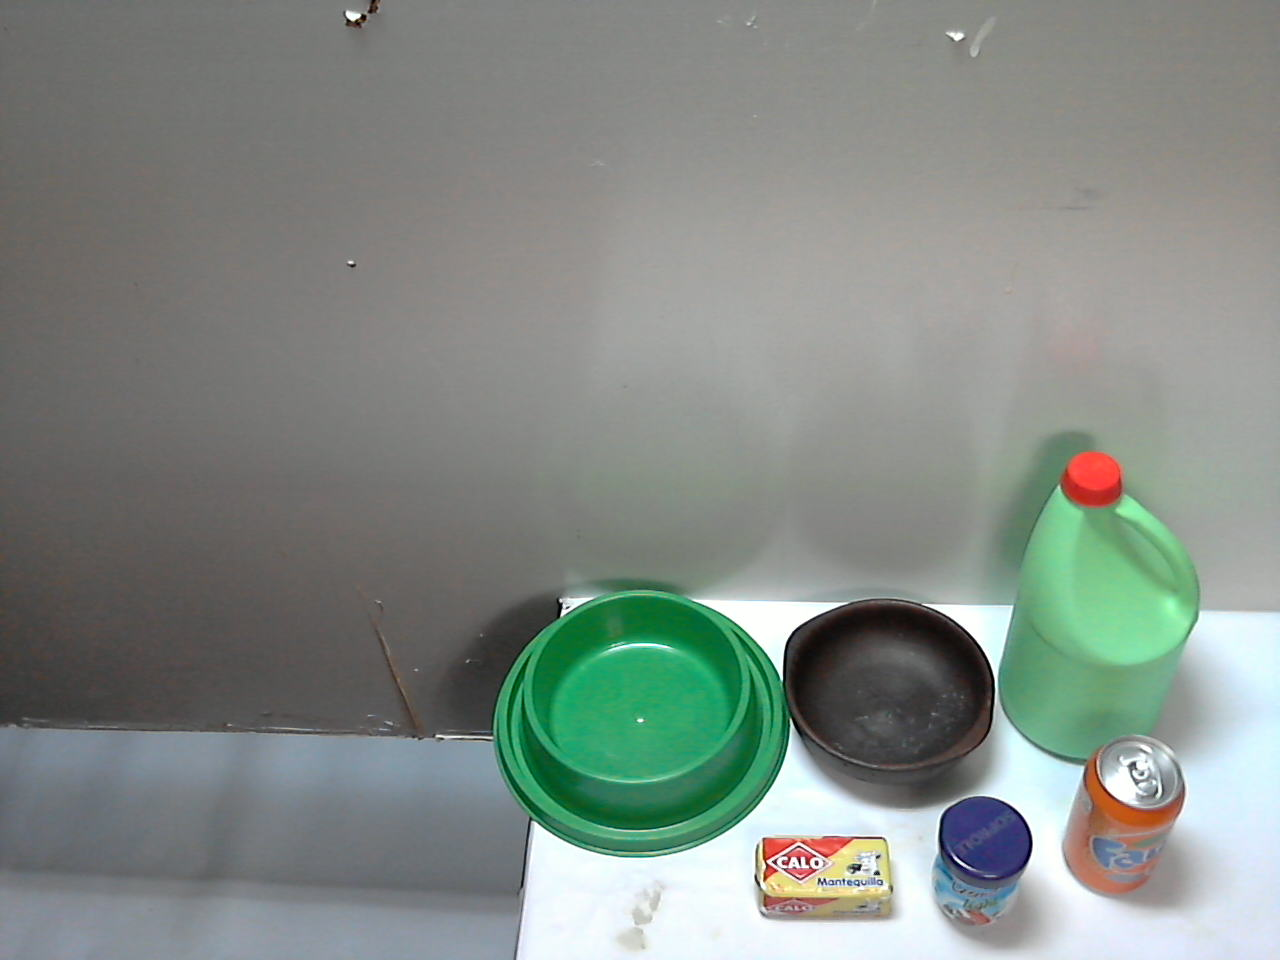azucarero: (677, 745, 827, 909)
cafe: (533, 573, 677, 766)
cera: (694, 445, 841, 748)
colador: (812, 587, 1253, 946)
ketchup: (454, 692, 570, 857)
pelota: (577, 803, 685, 914)
